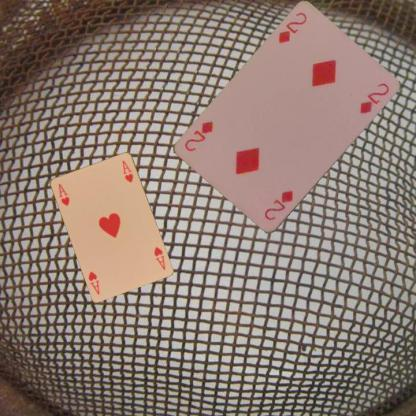2d: (276, 10, 310, 45), (262, 188, 294, 223)
Ah: (150, 244, 166, 271), (56, 180, 70, 208)
